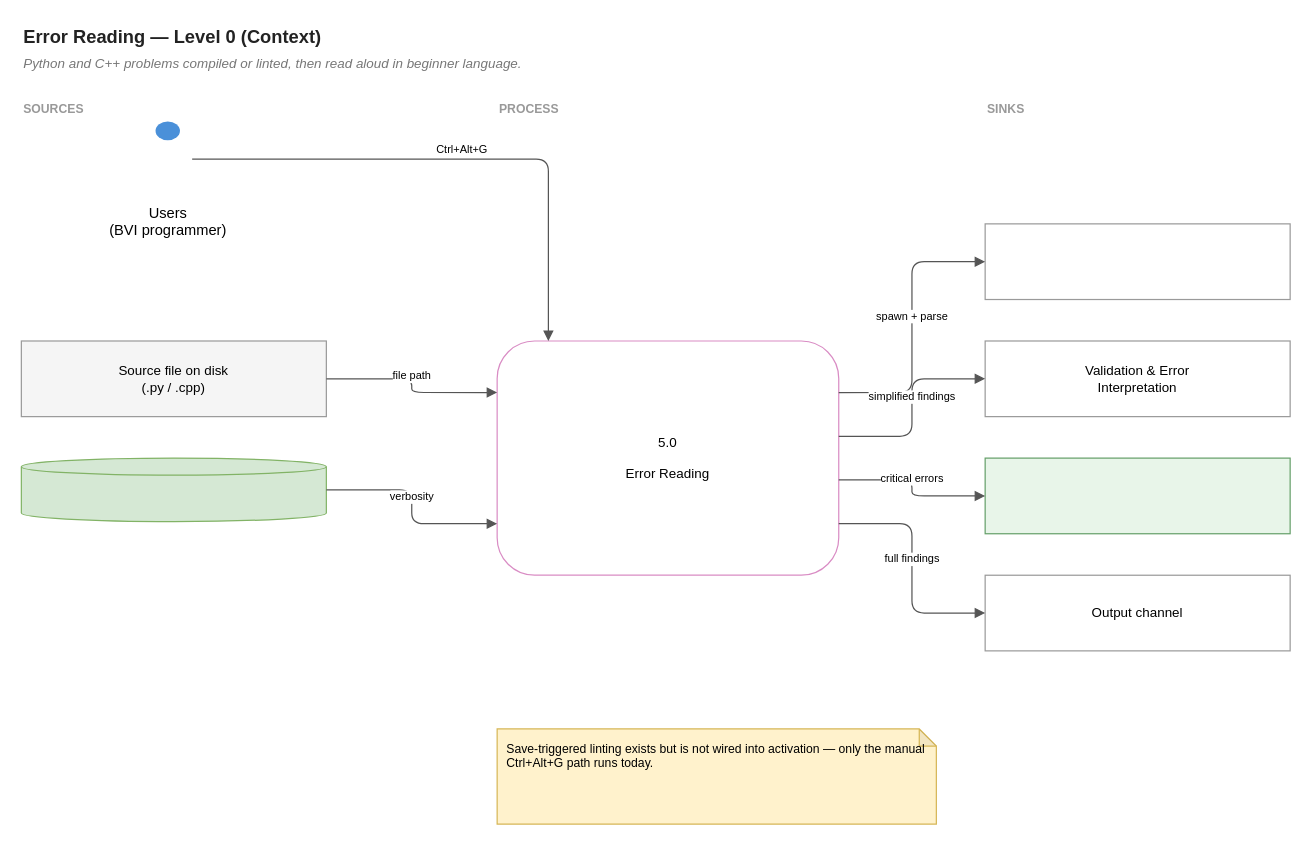
This 1312x845 diagram has some shape labels left out. The shapes that lost their labels are listed below. From the top down, each one's centre as x and y in pixels, then its label:
At point 1137,261: "Validation Tools (pylint / g++)".
At point 173,489: "Guidance level".
At point 1137,495: "Speech Output / TTS".
